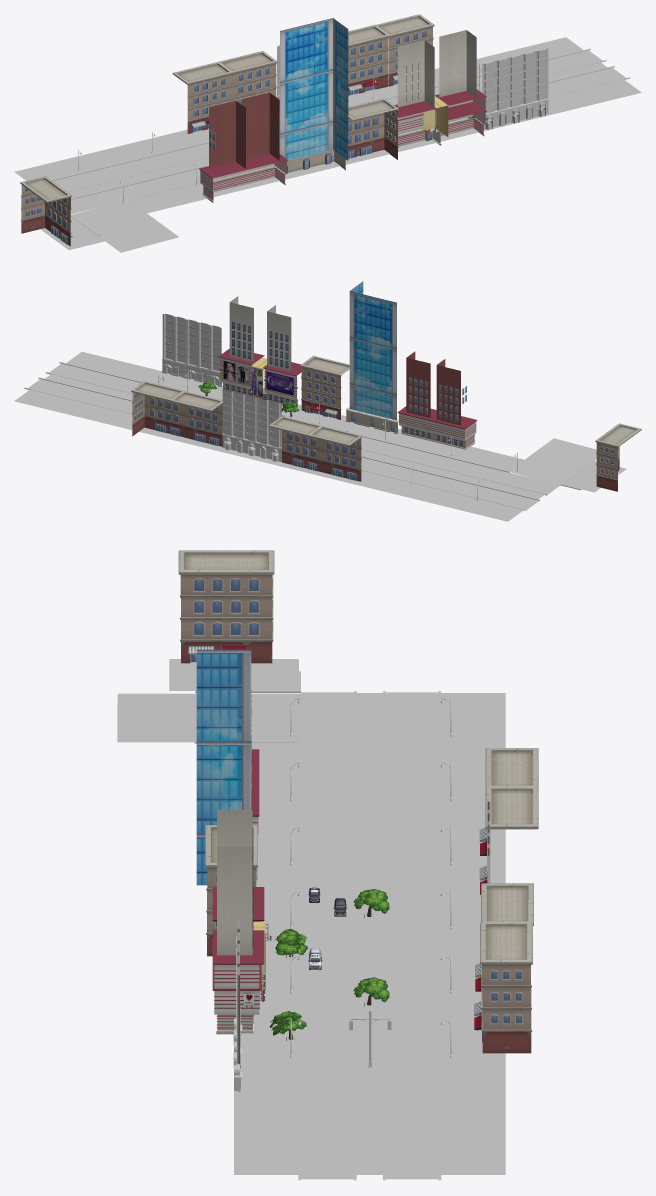
File: JianKongJieDao_01.FBX
3 renders of one model, top to bottom at view 1: azimuth 30°, elevation 25°; view 2: azimuth 150°, elevation 25°; view 3: azimuth 270°, elevation 25°, orthographic. The views are drawn at different scales.
Visible parts, largest first — view 1: JianKongJieDao_01_loufang_01, JianKongJieDao_01_malu_01, JianKongJieDao_01_loufang_02; view 2: JianKongJieDao_01_loufang_01, JianKongJieDao_01_malu_01, JianKongJieDao_01_loufang_02; view 3: JianKongJieDao_01_malu_01, JianKongJieDao_01_loufang_01, JianKongJieDao_01_loufang_02.
Boxes of the visible parts, <box> form: JianKongJieDao_01_loufang_01: <box>20,14,486,246</box>; JianKongJieDao_01_malu_01: <box>14,37,641,252</box>; JianKongJieDao_01_loufang_02: <box>276,45,548,130</box>; JianKongJieDao_01_loufang_01: <box>131,281,641,491</box>; JianKongJieDao_01_malu_01: <box>14,351,626,521</box>; JianKongJieDao_01_loufang_02: <box>162,313,281,461</box>; JianKongJieDao_01_malu_01: <box>117,659,505,1180</box>; JianKongJieDao_01_loufang_01: <box>178,550,538,1053</box>; JianKongJieDao_01_loufang_02: <box>233,801,490,1092</box>.
Size of the model in its own units: 50609 by 11485 by 16726.
